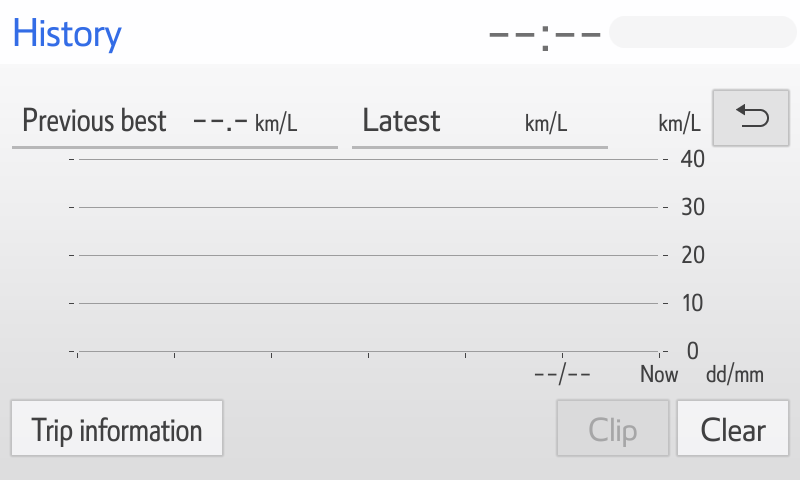touchPart: (3, 397, 231, 459), (672, 391, 792, 459), (707, 79, 799, 150)
untouchPart: (5, 101, 702, 389), (484, 13, 798, 53), (550, 394, 673, 464), (8, 14, 130, 55)
